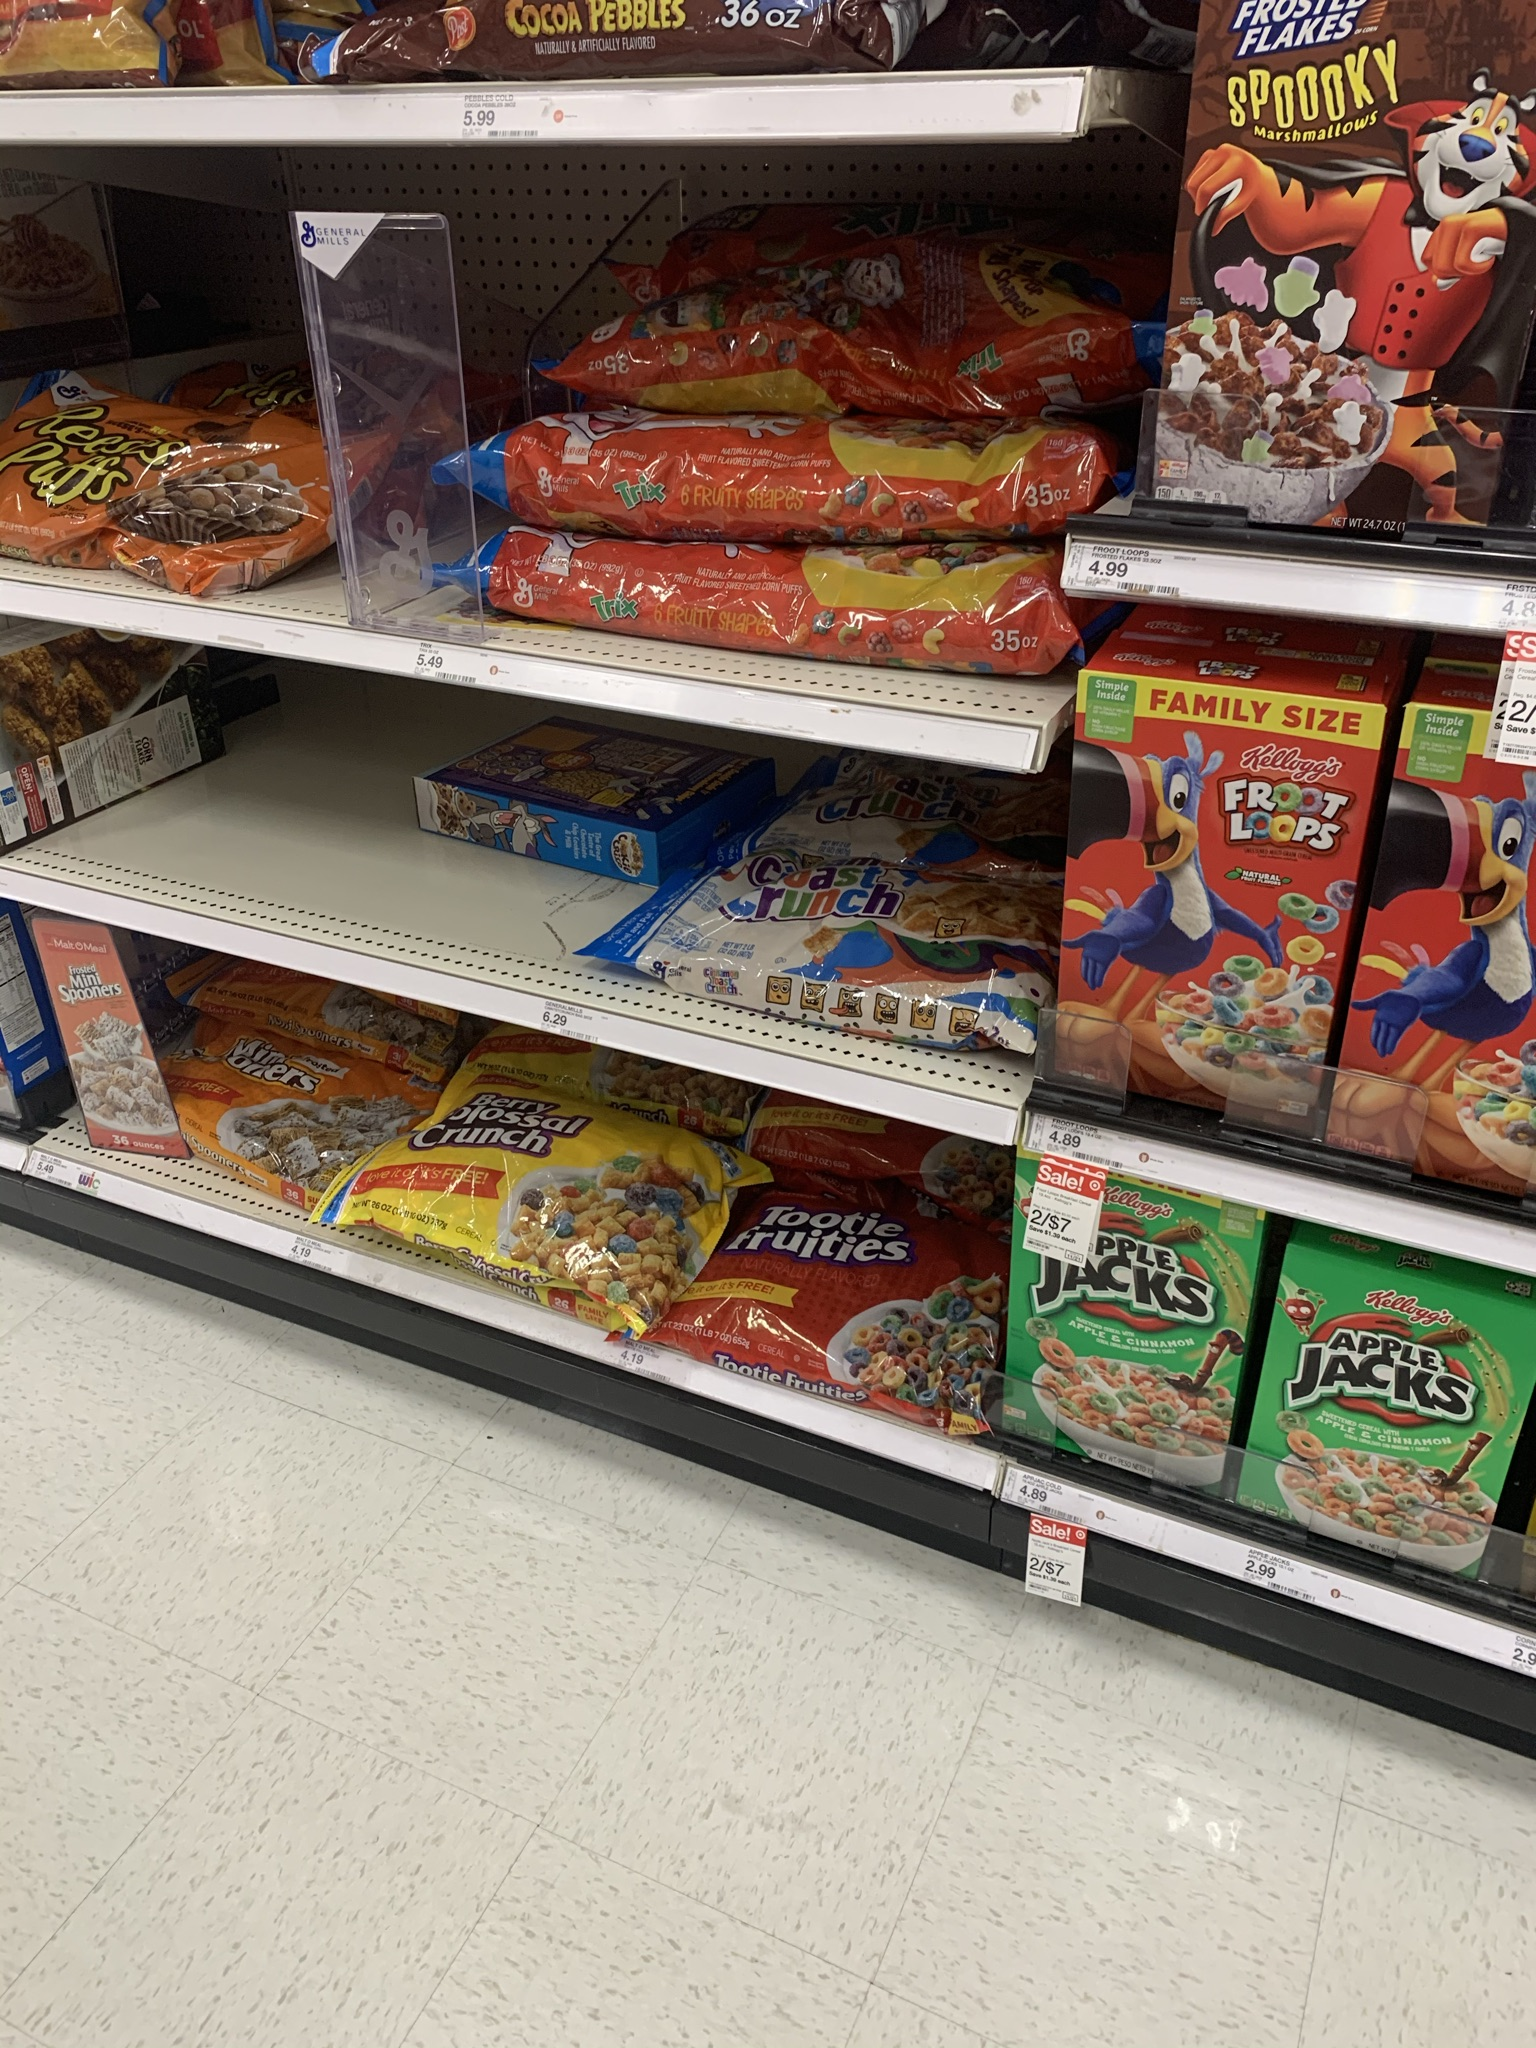Cereal: (1152, 3, 1536, 555), (1062, 655, 1389, 1143), (1252, 1209, 1536, 1608), (995, 1109, 1255, 1521)
